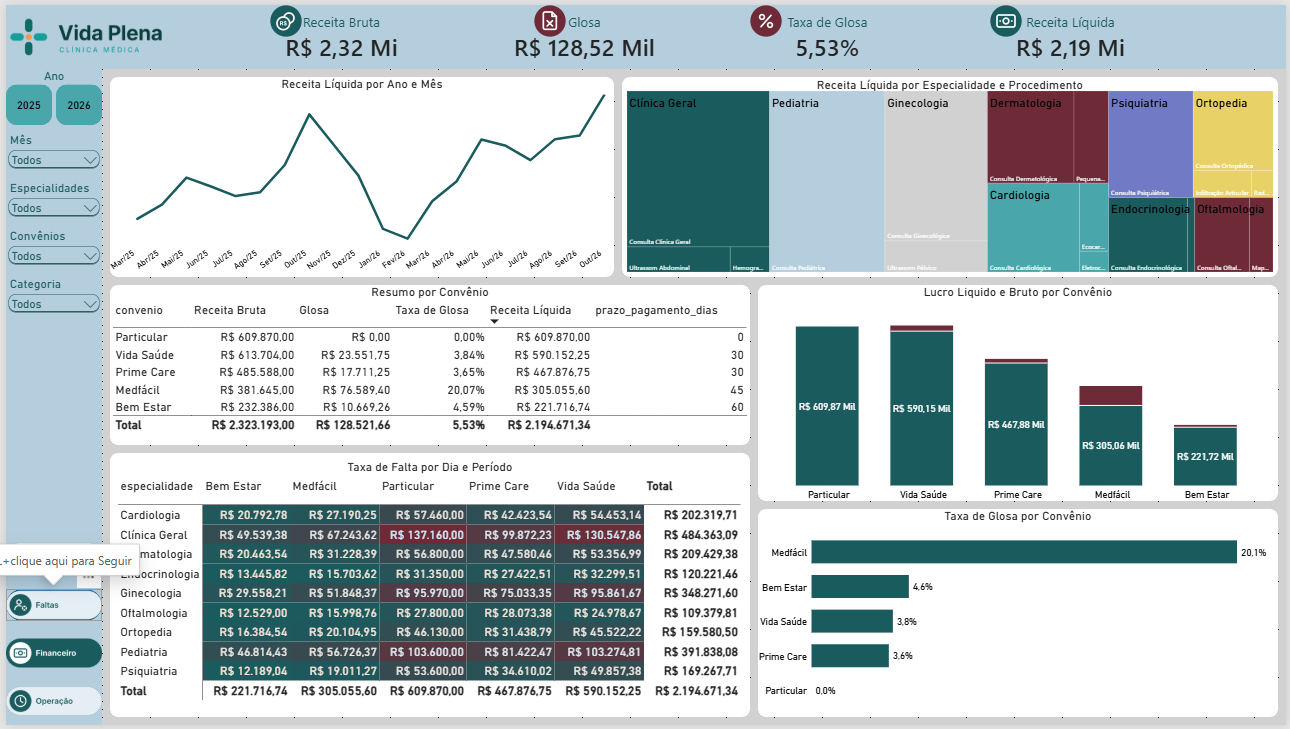

Layout of this report page (visuals, bound fields, positions):
{"tool":"powerbi","page":{"name":"Financeiro","canvas":[2560,1440],"ordinal":2},"visuals":[{"type":"shape","box":[208,896,1280,528],"z":0},{"type":"shape","box":[1504,560,1040,432],"z":1000},{"type":"shape","box":[1232,144,1312,400],"z":2000},{"type":"shape","box":[0,-176,192,1616],"z":3000},{"type":"shape","box":[208,144,1008,400],"z":4000},{"type":"shape","box":[0,0,2560,128],"z":5000},{"type":"shape","box":[1504,1008,1040,416],"z":6000},{"type":"image","box":[0,0,320,128],"z":7000},{"type":"cardVisual","fields":{"Data":["Medidas.Receita Bruta","Medidas.Glosa","Medidas.Taxa de Glosa","Medidas.Receita Líquida"]},"box":[432,16,1936,96],"z":8000},{"type":"shape","box":[208,560,1280,320],"z":9000},{"type":"slicer","fields":{"Values":["dim_medicos.especialidade"]},"box":[0,352,192,96],"z":10000},{"type":"image","box":[1040,0,96,64],"z":11000},{"type":"image","box":[512,0,96,64],"z":12000},{"type":"image","box":[1952,0,96,64],"z":13000},{"type":"image","box":[1472,0,96,64],"z":14000},{"type":"slicer","fields":{"Values":["dim_convenios.convenio"]},"box":[0,448,192,96],"z":15000},{"type":"slicer","fields":{"Values":["dim_procedimentos.categoria"]},"box":[0,544,192,96],"z":16000},{"type":"advancedSlicerVisual","title":"Ano","fields":{"Values":["dim_calendario.ano"]},"box":[0,128,192,112],"z":17000},{"type":"slicer","fields":{"Values":["dim_calendario.mes_nome"]},"box":[0,256,192,96],"z":18000},{"type":"actionButton","box":[0,1072,192,64],"z":19000},{"type":"actionButton","box":[0,1168,192,64],"z":20000},{"type":"actionButton","box":[0,1264,192,64],"z":21000},{"type":"actionButton","box":[0,1360,192,64],"z":22000},{"type":"barChart","title":"Taxa de Glosa por Convênio","fields":{"Category":["dim_convenios.convenio"],"Y":["Medidas.Taxa de Glosa"]},"box":[1504,1008,1040,416],"z":23000},{"type":"columnChart","title":"Lucro Liquido e Bruto por Convênio","fields":{"Category":["dim_convenios.convenio"],"Y":["Medidas.Receita Líquida","Medidas.Glosa"]},"box":[1504,560,1040,432],"z":24000},{"type":"tableEx","title":"Resumo por Convênio","fields":{"Values":["dim_convenios.convenio","Medidas.Receita Bruta","Medidas.Glosa","Medidas.Taxa de Glosa","Medidas.Receita Líquida","dim_convenios.prazo_pagamento_dias"]},"box":[208,560,1280,320],"z":25000},{"type":"treemap","title":"Receita Líquida por Especialidade e Procedimento","fields":{"Details":["dim_procedimentos.procedimento"],"Group":["dim_medicos.especialidade"],"Values":["Medidas.Receita Líquida"]},"box":[1232,144,1312,400],"z":26000},{"type":"pivotTable","title":"Taxa de Falta por Dia e Período","fields":{"Columns":["dim_convenios.convenio"],"Rows":["dim_medicos.especialidade"],"Values":["Medidas.Receita Líquida"]},"box":[208,896,1280,528],"z":27000},{"type":"lineChart","title":"Receita Líquida por Ano e Mês","fields":{"Category":["dim_calendario.Mês/Ano"],"Y":["Medidas.Receita Líquida 3 Meses"]},"box":[208,144,1008,400],"z":28000}]}

Visuals, with their boxes on the page's 2560x1440 design canvas (x1, y1, x2, y2). These are canvas units, not pixel positions in the 1290x729 screenshot, which may show the page scaled, cropped or inside an application window:
shape: bbox=(208, 896, 1488, 1424)
shape: bbox=(1504, 560, 2544, 992)
shape: bbox=(1232, 144, 2544, 544)
shape: bbox=(0, -176, 192, 1440)
shape: bbox=(208, 144, 1216, 544)
shape: bbox=(0, 0, 2560, 128)
shape: bbox=(1504, 1008, 2544, 1424)
image: bbox=(0, 0, 320, 128)
cardVisual - Medidas.Receita Bruta x Medidas.Glosa: bbox=(432, 16, 2368, 112)
shape: bbox=(208, 560, 1488, 880)
slicer - dim_medicos.especialidade: bbox=(0, 352, 192, 448)
image: bbox=(1040, 0, 1136, 64)
image: bbox=(512, 0, 608, 64)
image: bbox=(1952, 0, 2048, 64)
image: bbox=(1472, 0, 1568, 64)
slicer - dim_convenios.convenio: bbox=(0, 448, 192, 544)
slicer - dim_procedimentos.categoria: bbox=(0, 544, 192, 640)
"Ano" advancedSlicerVisual: bbox=(0, 128, 192, 240)
slicer - dim_calendario.mes_nome: bbox=(0, 256, 192, 352)
actionButton: bbox=(0, 1072, 192, 1136)
actionButton: bbox=(0, 1168, 192, 1232)
actionButton: bbox=(0, 1264, 192, 1328)
actionButton: bbox=(0, 1360, 192, 1424)
"Taxa de Glosa por Convênio" barChart: bbox=(1504, 1008, 2544, 1424)
"Lucro Liquido e Bruto por Convênio" columnChart: bbox=(1504, 560, 2544, 992)
"Resumo por Convênio" tableEx: bbox=(208, 560, 1488, 880)
"Receita Líquida por Especialidade e Procedimento" treemap: bbox=(1232, 144, 2544, 544)
"Taxa de Falta por Dia e Período" pivotTable: bbox=(208, 896, 1488, 1424)
"Receita Líquida por Ano e Mês" lineChart: bbox=(208, 144, 1216, 544)
